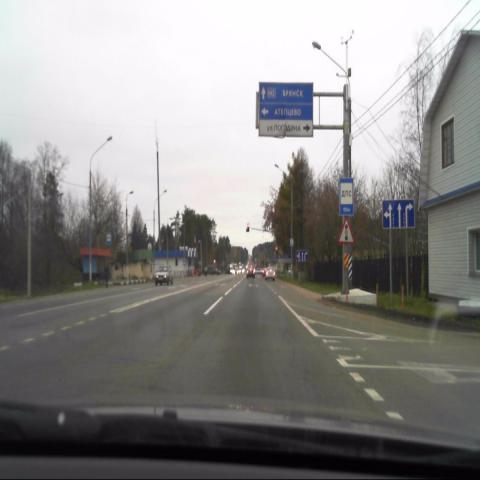7_12: (339, 178, 353, 214)
